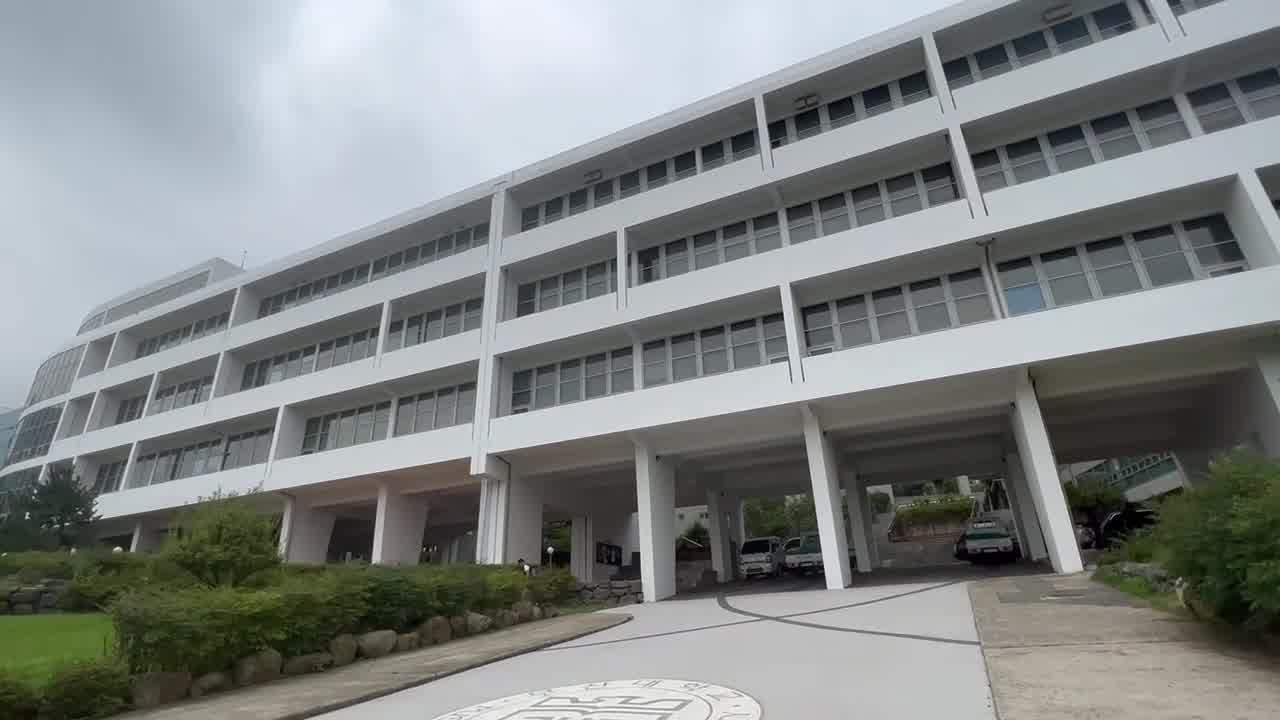building: (76, 14, 1253, 418)
